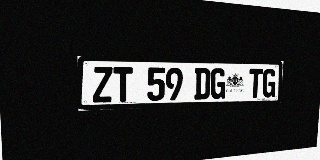5: (147, 67, 165, 101)
9: (165, 68, 183, 101)
D: (194, 68, 210, 100)
G: (210, 68, 226, 99), (262, 69, 276, 98)
T: (113, 67, 133, 102), (248, 69, 263, 98)
Z: (92, 67, 113, 103)
